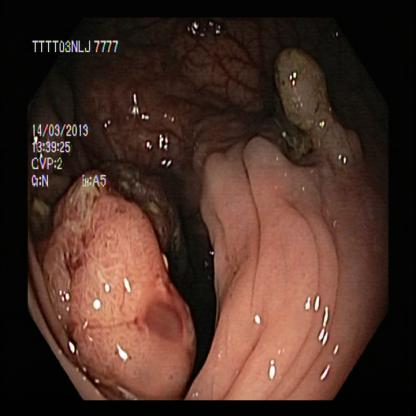Labels: (32, 41, 119, 188)
Polyps: (65, 193, 192, 393)
